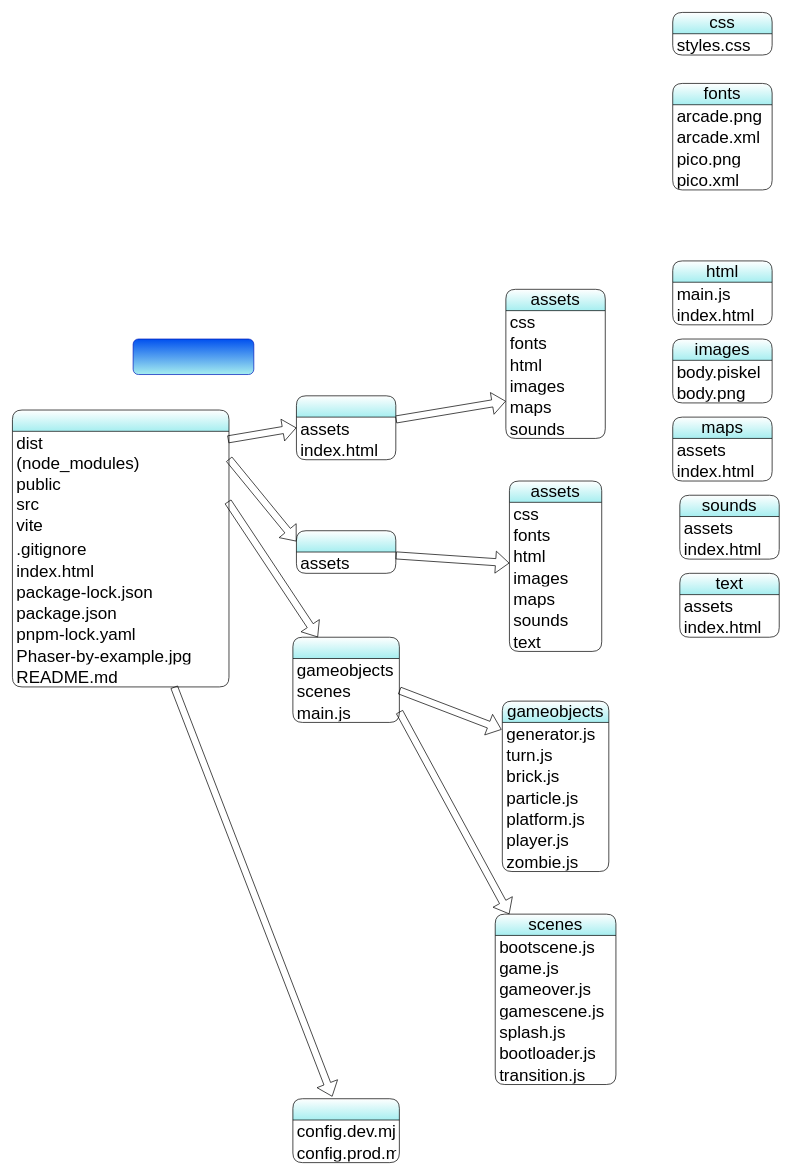
The diagram is 792 pixels wide and 1175 high, and some of its shapes have lost their labels. Each missing label, with the box of its shape:
AWS Trivia: (12, 409, 229, 687)
dist: (296, 395, 396, 460)
public: (296, 530, 396, 573)
Scene 1 Flow: (132, 338, 254, 375)
src: (292, 637, 399, 722)
vite: (292, 1098, 399, 1163)
